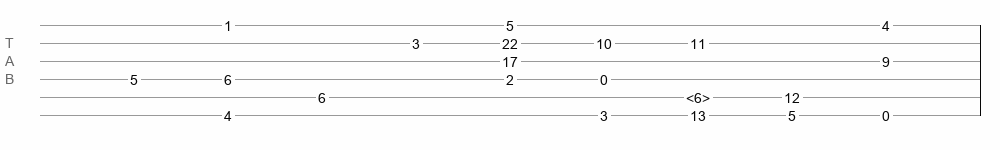0: (600, 72, 608, 82), (882, 108, 890, 118)
1: (224, 18, 232, 28)
10: (596, 36, 612, 46)
11: (690, 36, 706, 46)
12: (784, 90, 800, 100)
13: (690, 108, 706, 118)
17: (502, 54, 518, 64)
2: (506, 72, 514, 82)
22: (502, 36, 518, 46)
3: (412, 36, 420, 46), (600, 108, 608, 118)
4: (224, 108, 232, 118), (882, 18, 890, 28)
5: (130, 72, 138, 82), (506, 18, 514, 28), (788, 108, 796, 118)
6: (224, 72, 232, 82), (318, 90, 326, 100)
9: (882, 54, 890, 64)
harmonic: (686, 90, 710, 100)
